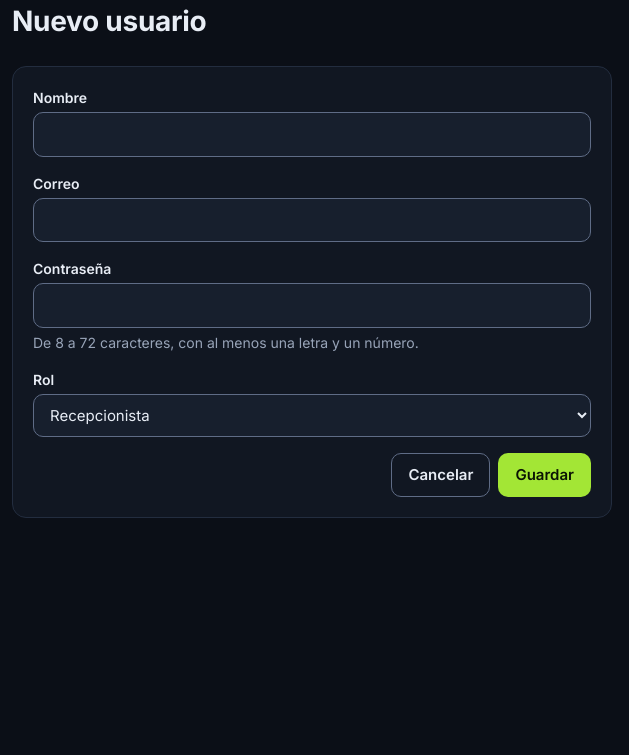
Test: UsuarioForm › ofrece elegir un cliente solo cuando el rol es cliente, y solo clientes disponibles
The width and height of the screenshot is (629, 755).
Expected: the field labelled "cliente" is not shown
Select "Cliente" in the dropdown labelled "Rol": (312, 415) [33,394,591,436]
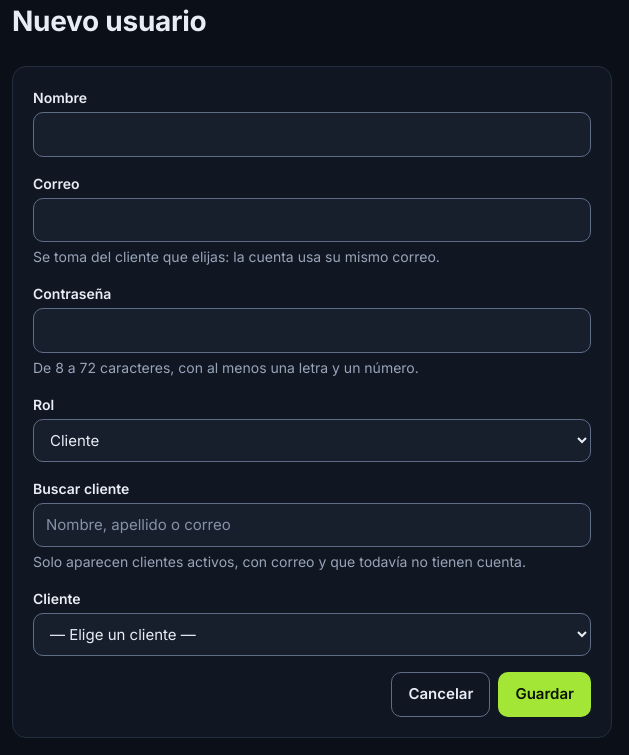
Result: the dropdown labelled "Cliente" is shown at [33,613,591,656]
